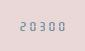three: (38, 20, 47, 31)
two: (18, 20, 27, 31)
zero: (28, 20, 37, 31), (48, 20, 57, 31), (58, 20, 67, 31)
